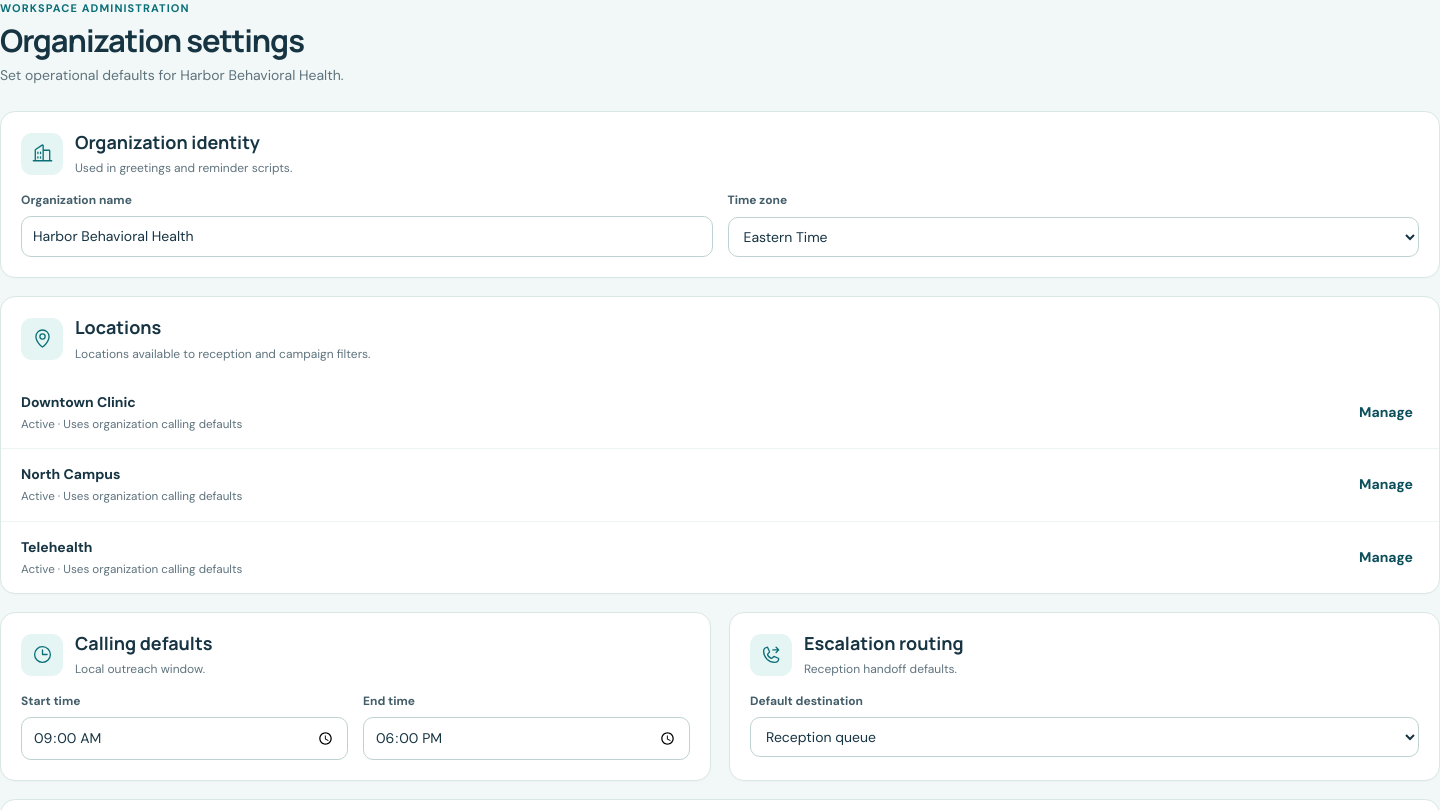
labels location management as a demo-only action
What coordinates should you click on to do the following:
click the button with aria-label "Manage Downtown Clinic"
I would click on:
 (1386, 412)
Its box is [1353,401,1419,424].
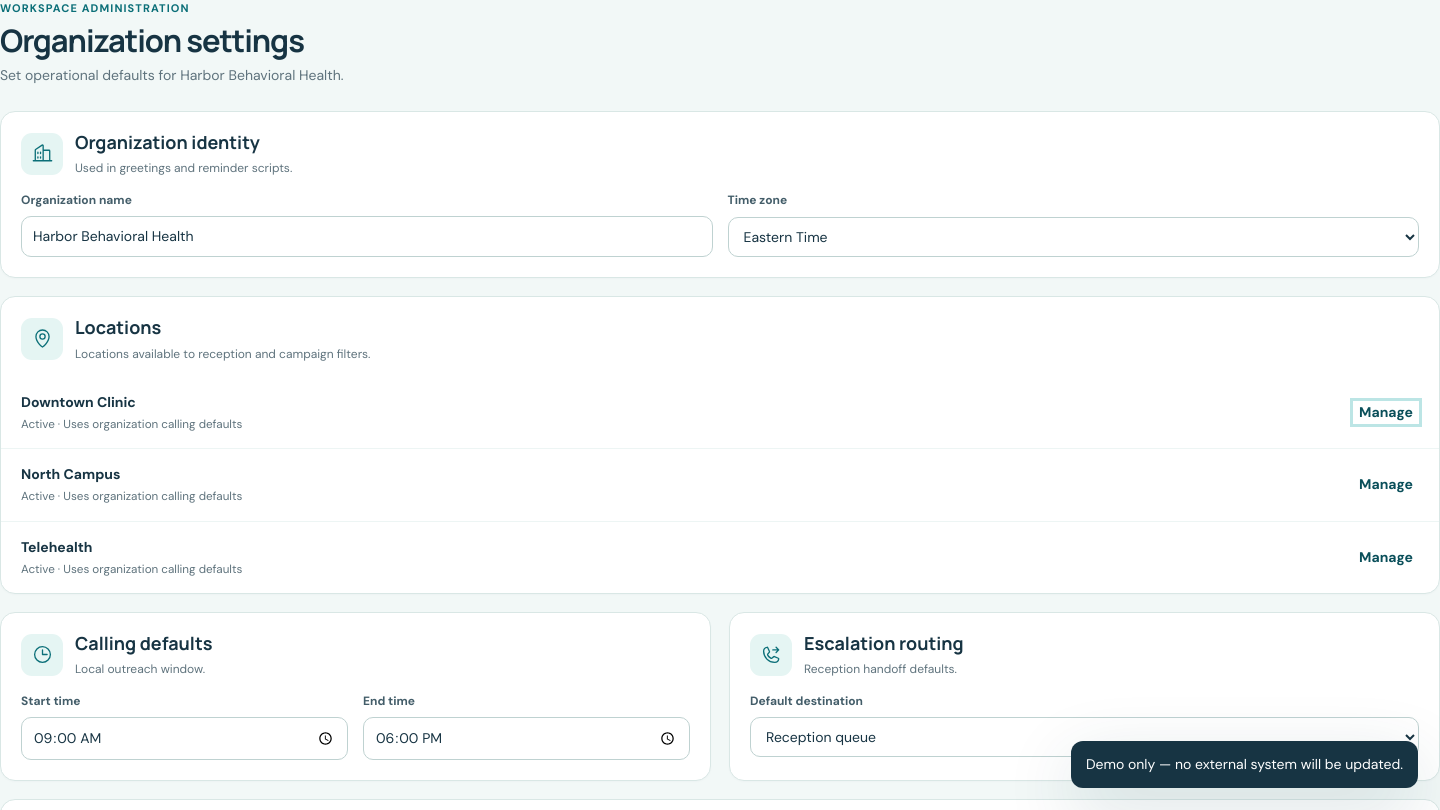
Expected: the text "Demo only — no external system will be updated." is shown, [1071,741,1418,788]
